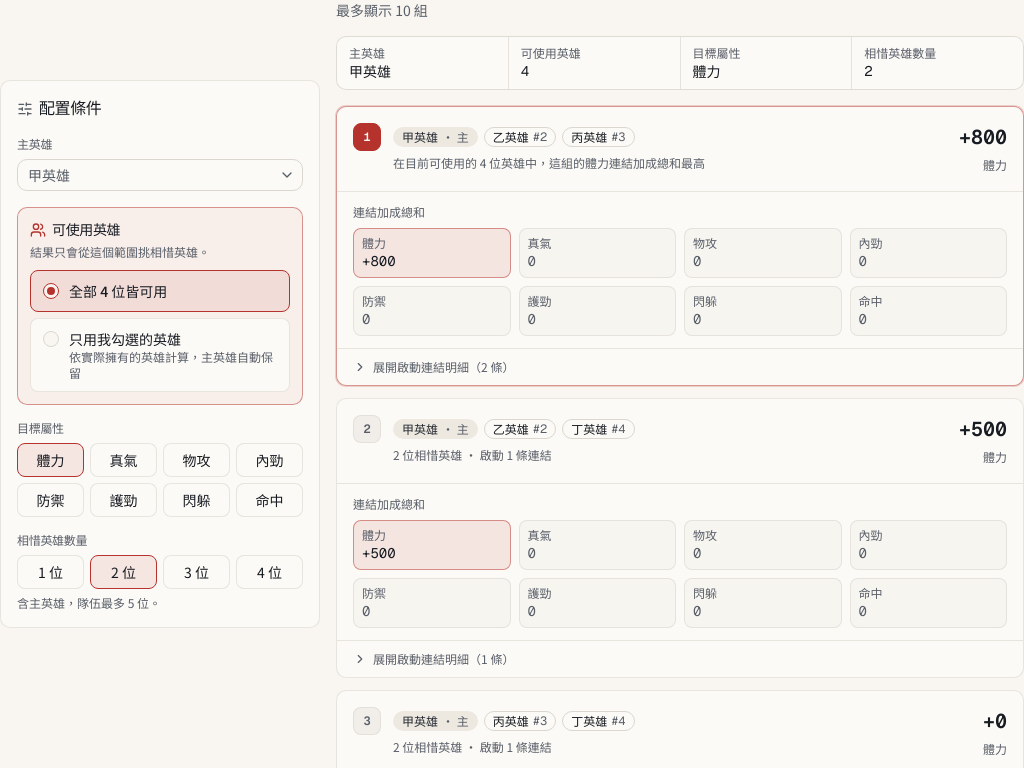
HeroTeamBuilder › 相惜英雄數量不足時顯示「可使用英雄不足」，與無連結的 empty state 不同
This screenshot has width=1024, height=768.
Click the radio button labelled "只用我勾選的英雄 依實際擁有的英雄計算，主英雄自動保留": (160, 355) [30, 318, 290, 392]
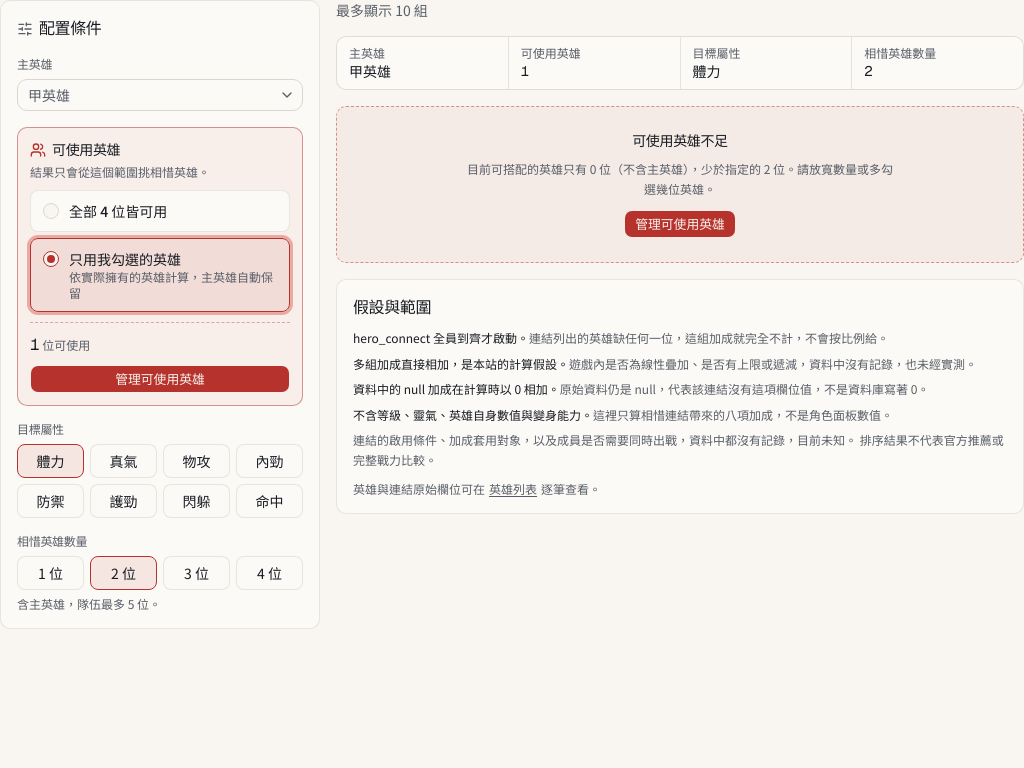
Expected: the heading "可使用英雄不足" is shown, [632, 133, 728, 149]
